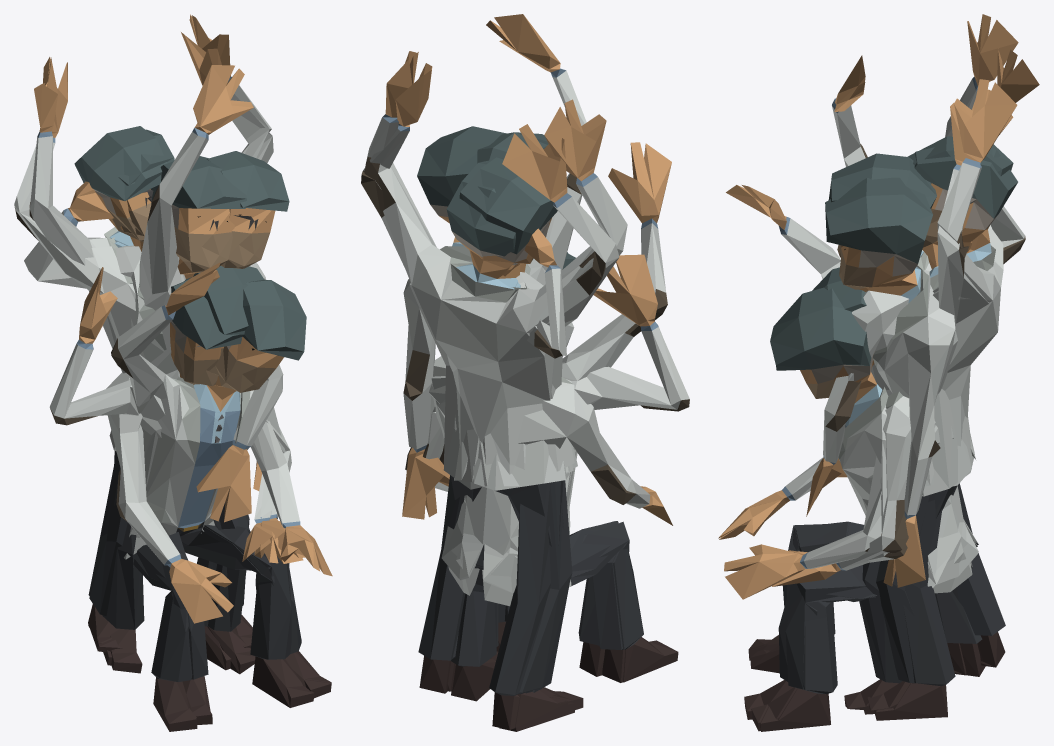
The model's file is crowd_f.glb.
The picture shows the model from 3 angles, left to right: view 1: azimuth 30°, elevation 25°; view 2: azimuth 150°, elevation 25°; view 3: azimuth 270°, elevation 25°; orthographic projection. The views are drawn at different scales.
Visible parts, largest first — view 1: sit, sit_cheer_b, fist_a, sit_cheer_a, fist_b, arms_b, arms_a; view 2: arms_b, fist_b, arms_a, sit_cheer_a, sit, sit_cheer_b, fist_a; view 3: fist_b, arms_b, sit_cheer_b, arms_a, fist_a, sit, sit_cheer_a.
Boxes of the visible parts, x1,y1,x2,y2 form: sit: (106, 277, 332, 724); sit_cheer_b: (111, 262, 331, 726); fist_a: (24, 156, 283, 674); sit_cheer_a: (49, 265, 331, 731); fist_b: (103, 65, 289, 670); arms_b: (29, 14, 271, 652); arms_a: (14, 32, 273, 651); arms_b: (364, 51, 627, 729); fist_b: (402, 14, 586, 731); arms_a: (361, 63, 619, 728); sit_cheer_a: (405, 252, 689, 682); sit: (431, 253, 672, 676); sit_cheer_b: (423, 142, 671, 682); fist_a: (454, 132, 583, 709); fist_b: (825, 55, 985, 714); arms_b: (874, 14, 1018, 720); sit_cheer_b: (726, 185, 978, 731); arms_a: (867, 48, 1039, 710); fist_a: (806, 153, 1025, 710); sit: (718, 425, 972, 719); sit_cheer_a: (748, 267, 977, 731).
Bounding box in the file's own units: 0.9638 × 2.17 × 0.9876.
1 material, 1 textured.
